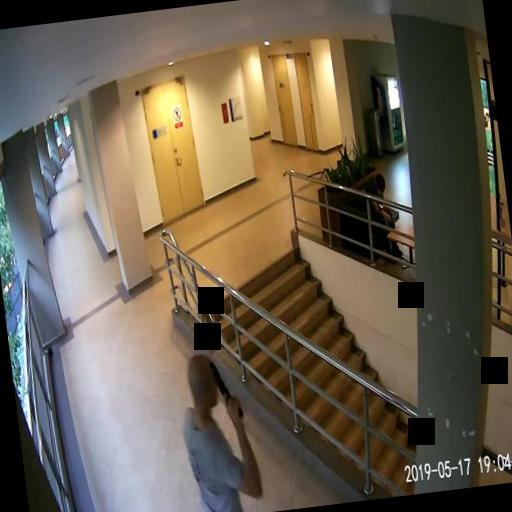Handgun: (208, 358, 242, 418)
